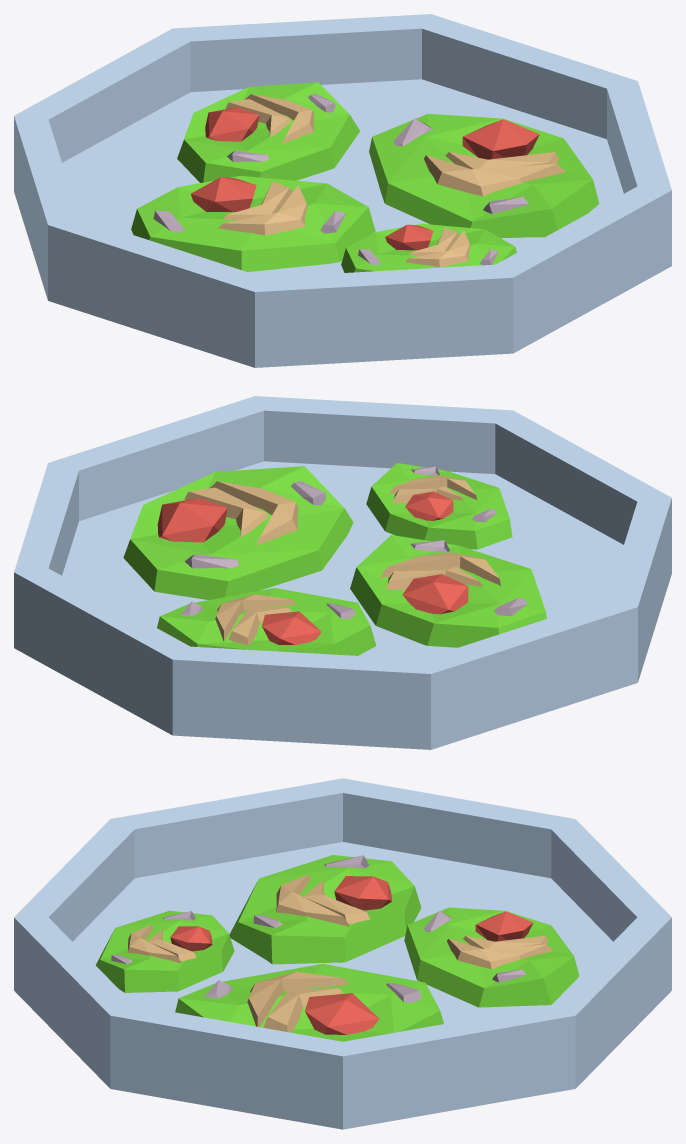
File: cells_element.fbx
The picture shows the model from 3 angles, top to bottom: view 1: azimuth 30°, elevation 25°; view 2: azimuth 150°, elevation 25°; view 3: azimuth 270°, elevation 25°; orthographic projection. The views are drawn at different scales.
Parts seen in each view (by area): view 1: cells_element; view 2: cells_element; view 3: cells_element.
Boxes of the visible parts, <box> form: cells_element: <box>14,14,671,367</box>; cells_element: <box>14,396,671,749</box>; cells_element: <box>14,778,671,1129</box>.
Bounding box in the file's own units: 481 × 59.08 × 481.
